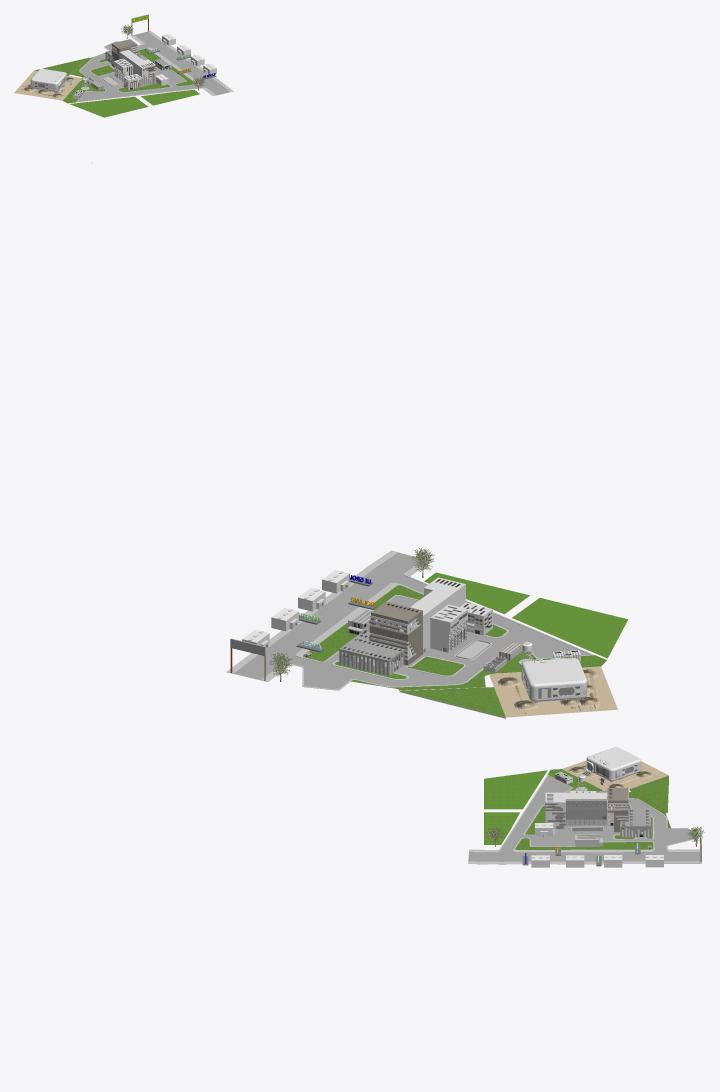
The model's file is environment.glb.
3 renders of one model, top to bottom at view 1: azimuth 30°, elevation 25°; view 2: azimuth 150°, elevation 25°; view 3: azimuth 270°, elevation 25°, orthographic. The views are drawn at different scales.
Parts seen in each view (by area): view 1: Untitled; view 2: Untitled; view 3: Untitled.
Boxes of the visible parts, x1,y1,x2,y2 form: Untitled: (14, 14, 233, 117); Untitled: (92, 162, 628, 718); Untitled: (14, 747, 704, 1077).
Bounding box in the file's own units: 225 × 10.23 × 200.
Materials: 14 (14 with a texture image).
